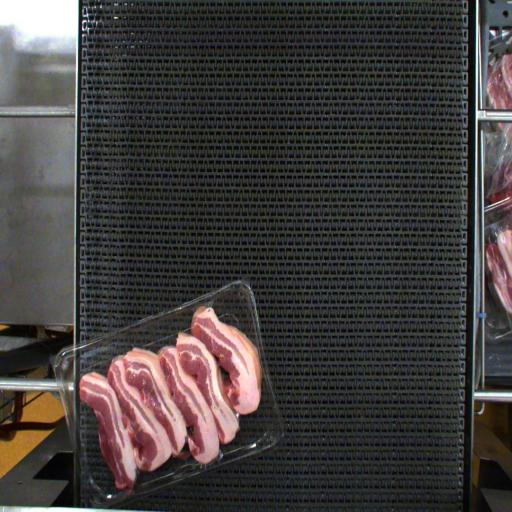packaging-error: (195, 290, 223, 313)
